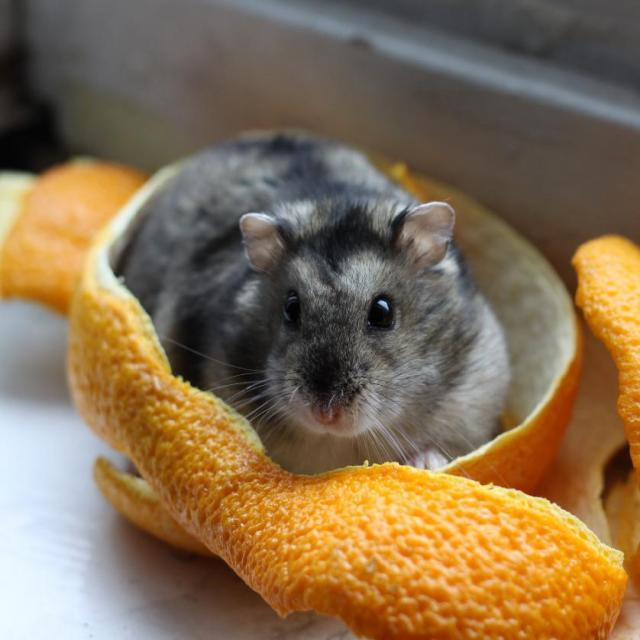rat: (112, 129, 510, 478)
